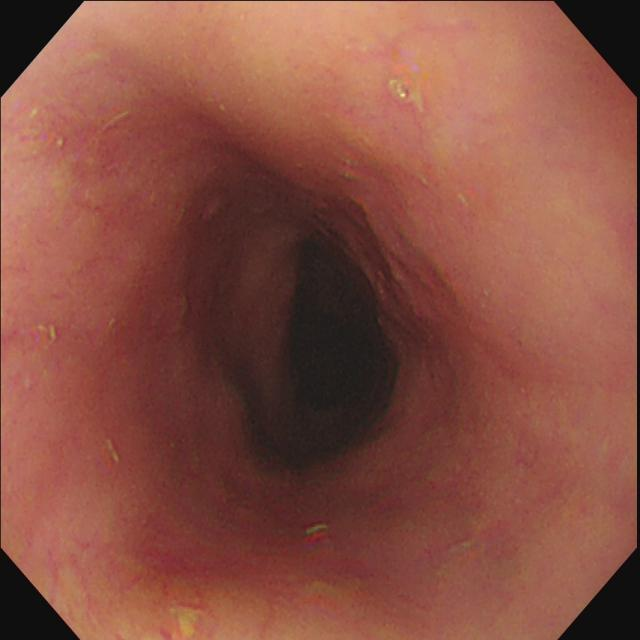E: (290, 246, 394, 420)
J: (169, 606, 204, 640)
